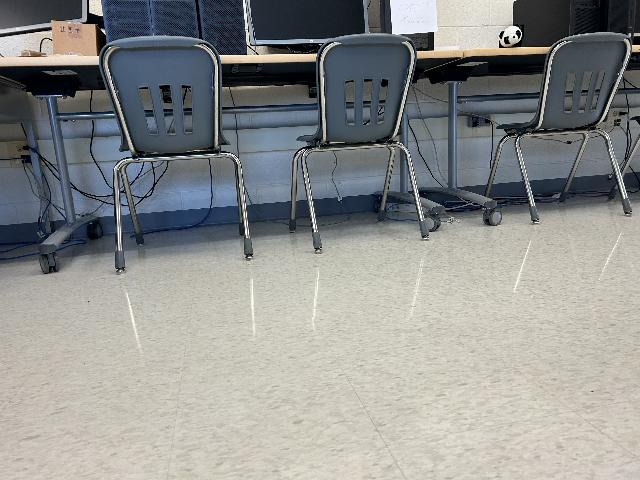panda_plushie: (498, 24, 522, 48)
